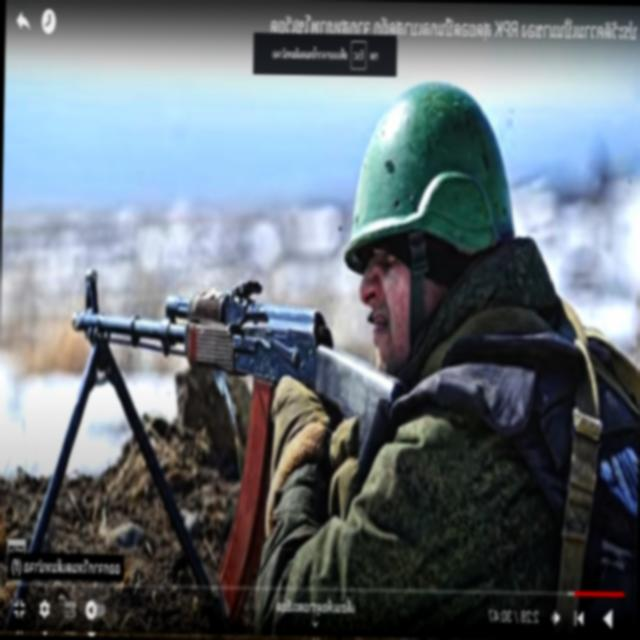ak: (67, 265, 401, 618)
